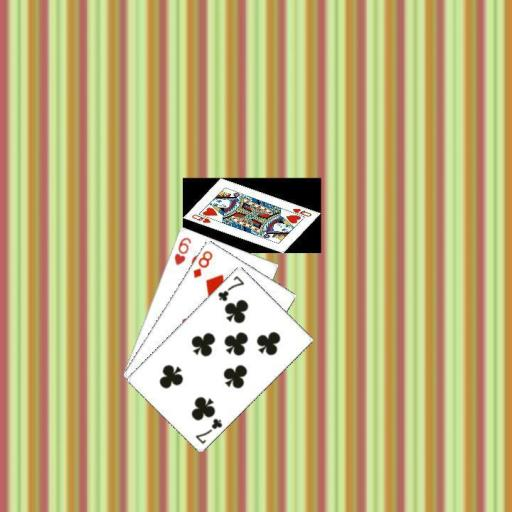card-corner: (192, 415, 224, 445), (215, 272, 245, 303), (190, 248, 214, 280), (170, 234, 192, 267)
